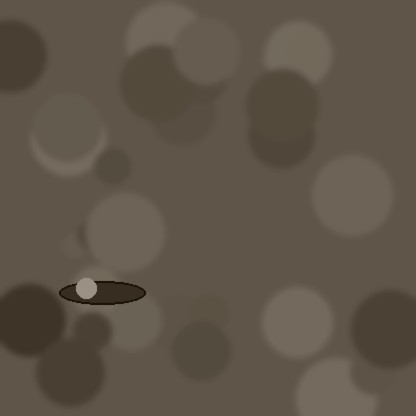gota: (59, 282, 145, 306)
